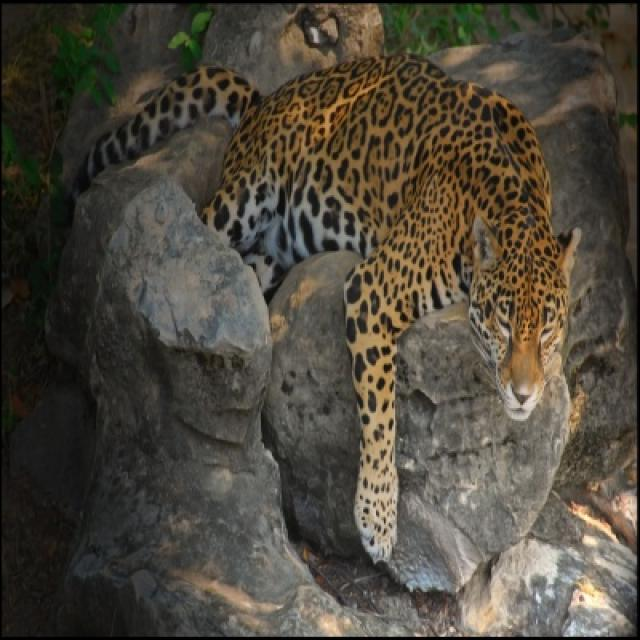Jaguar: (202, 54, 570, 566)
